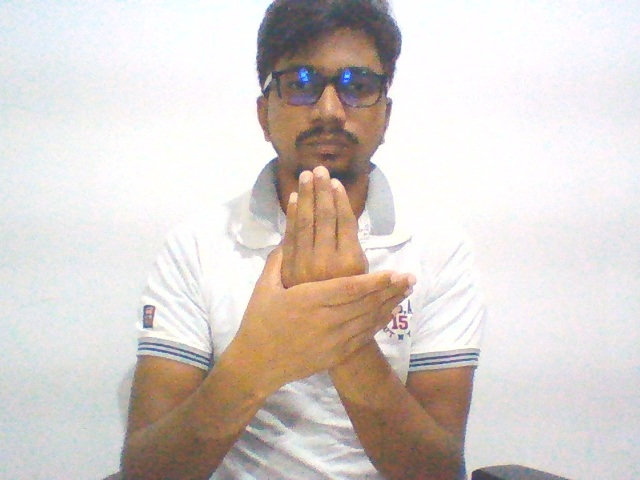tree: (217, 160, 423, 404)
